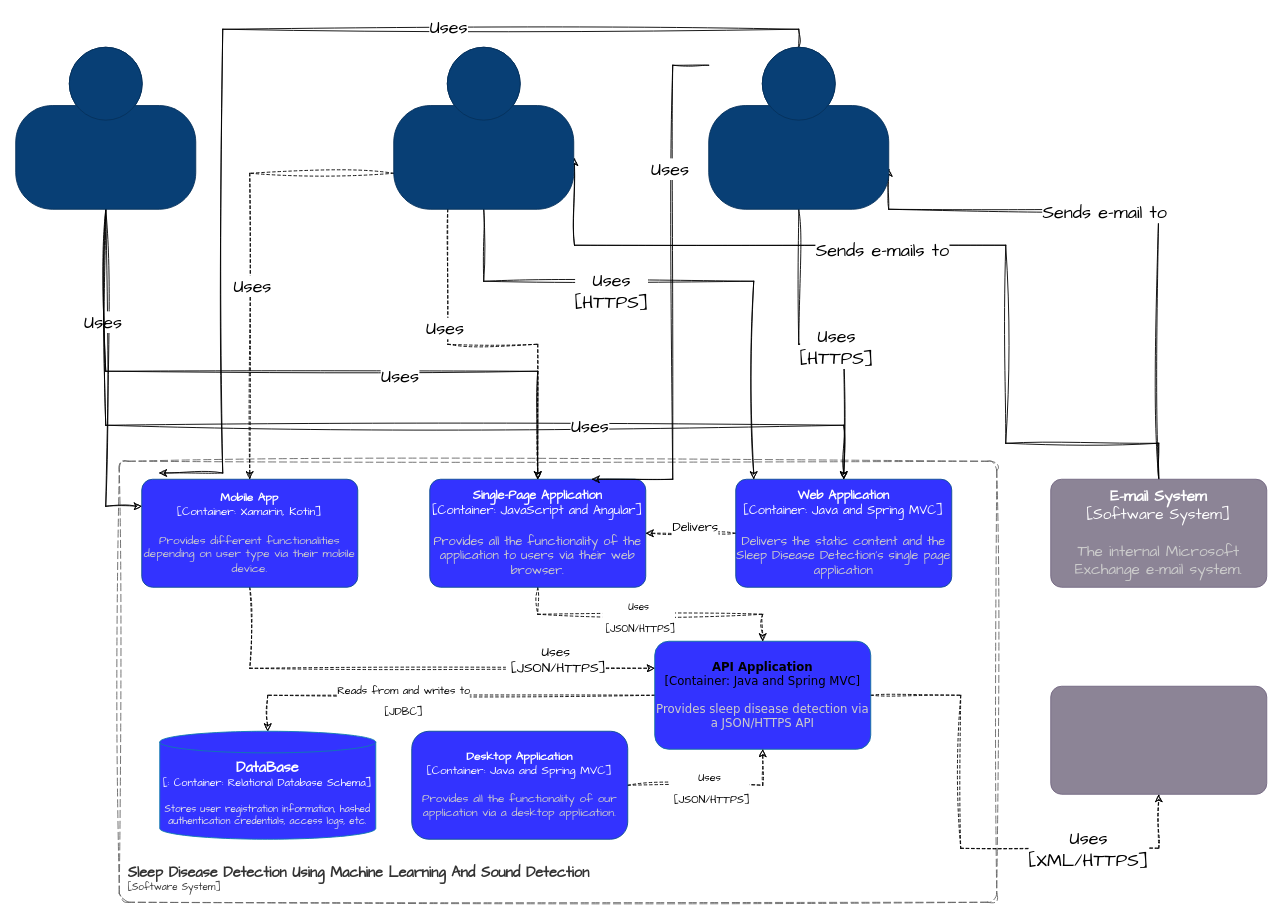
This 1283x918 diagram has some shape labels left out. The centre of each missing label's shape, as x and y in pixels:
Admin [Person] System admin.: pixel 105 127
Data Verification System [Software System] System that verifies hospital data.: pixel 1158 739
Doctor [Person] A doctor.: pixel 798 127
Patient [Person] Hospital patient: pixel 483 127
